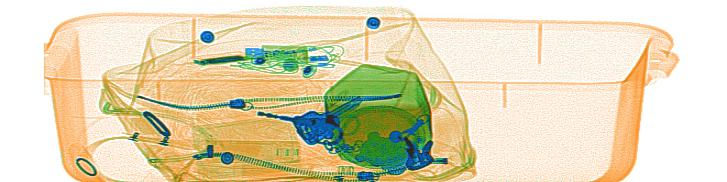USBFlashDisk: (242, 39, 312, 67)
